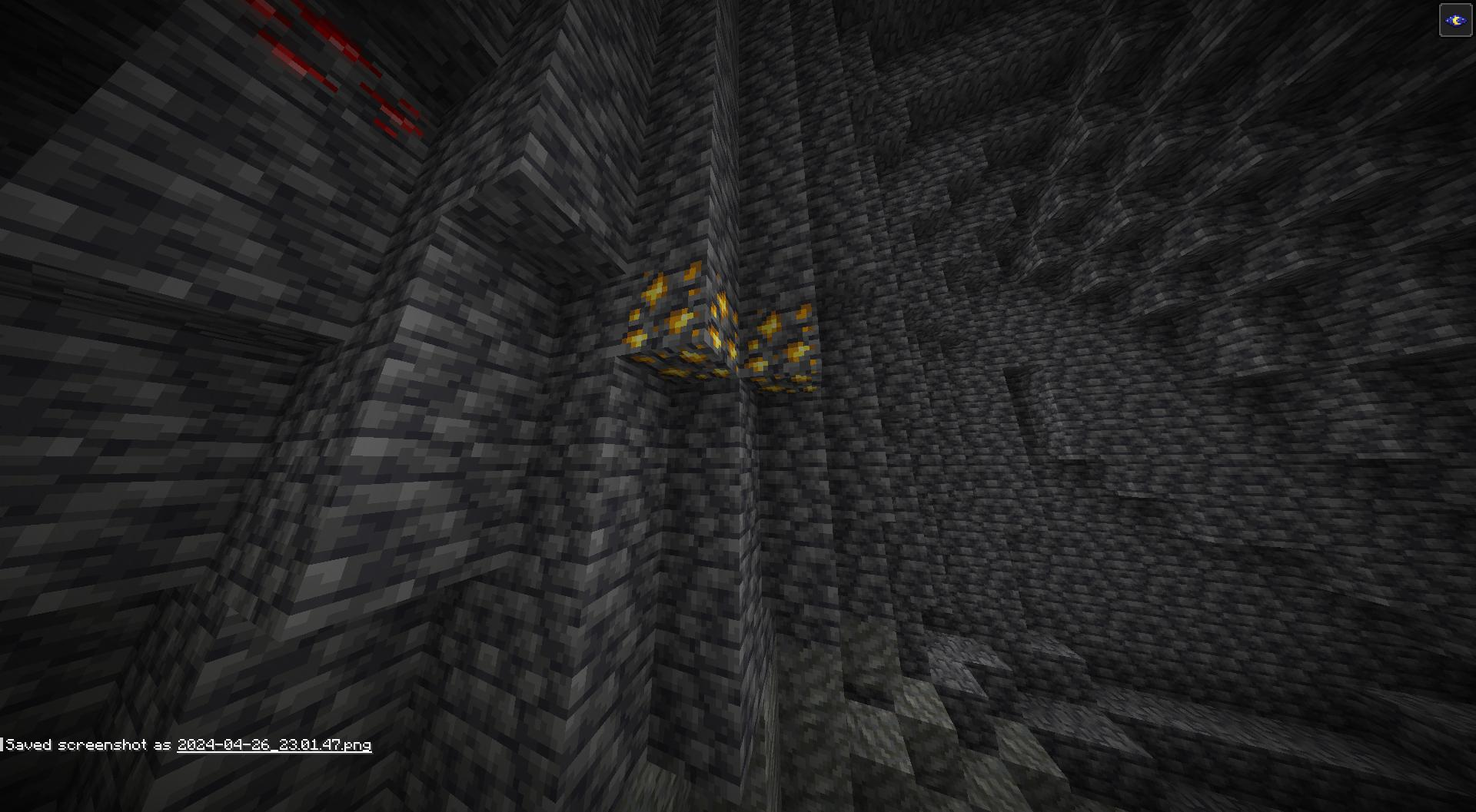gold ore: (742, 303, 817, 375), (629, 264, 694, 347), (633, 346, 727, 381), (708, 284, 742, 361), (750, 375, 825, 394)
redstone ore: (227, 1, 432, 162)
